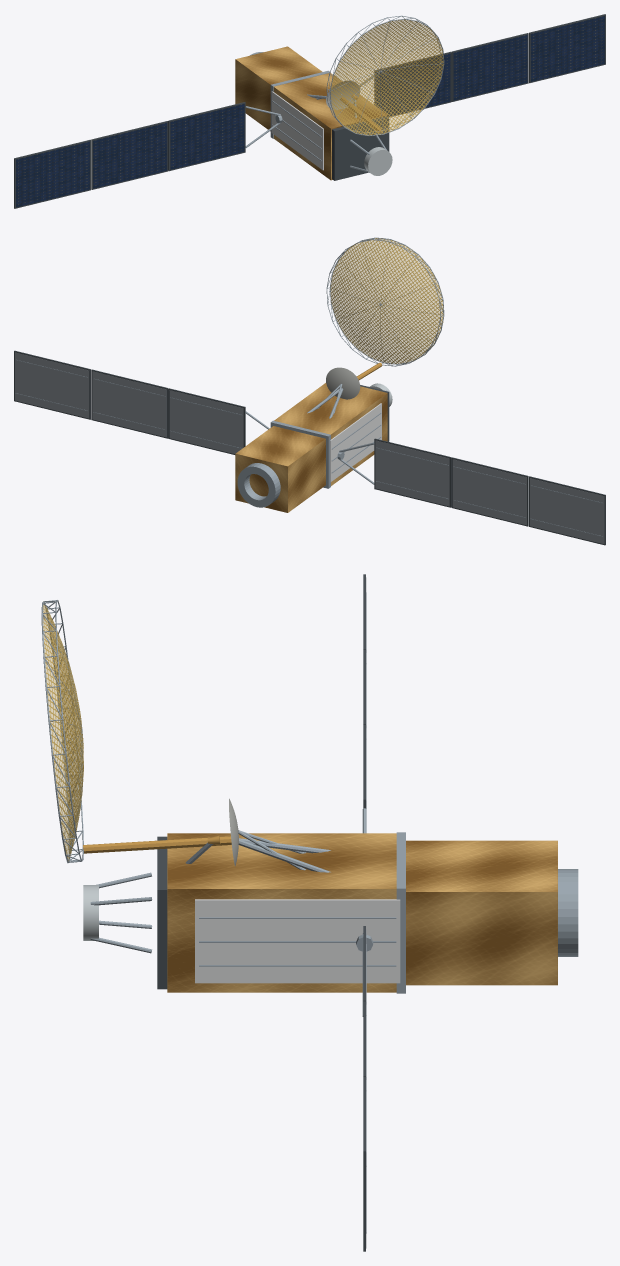
The model's file is ref-ekspress-1000-37951.glb.
3 views of the same model, one above another, from view 1: azimuth 30°, elevation 25°; view 2: azimuth 150°, elevation 25°; view 3: azimuth 270°, elevation 25° (orthographic). The views are drawn at different scales.
Parts seen in each view (by area): view 1: Solar cell panel (×6), Deployable mesh reflector, Service module, Payload module, Solar panel frame (×6), Earth-facing deck, Radiator face, Antenna tower platform, Communications reflector, Module interface; view 2: Rear array substrate (×6), Deployable mesh reflector, Service module, Payload module, Solar panel frame (×6), Radiator face, Launch adapter ring, Communications reflector, Module interface; view 3: Service module, Payload module, Radiator face, Deployable mesh reflector, Launch adapter ring, Earth-facing deck, Module interface, Reflector deployment boom.
Boxes of the visible parts, box(x1,y1,x2,y2) form: Solar cell panel (×6): box(16, 16, 604, 207); Deployable mesh reflector: box(330, 19, 443, 135); Service module: box(235, 46, 322, 131); Payload module: box(273, 73, 387, 180); Solar panel frame (×6): box(14, 14, 605, 208); Earth-facing deck: box(332, 116, 389, 180); Radiator face: box(271, 91, 323, 170); Antenna tower platform: box(364, 147, 392, 175); Communications reflector: box(326, 80, 359, 110); Module interface: box(270, 70, 330, 138); Rear array substrate (×6): box(15, 352, 604, 543); Deployable mesh reflector: box(330, 238, 443, 364); Service module: box(235, 426, 325, 512); Payload module: box(274, 383, 387, 485); Solar panel frame (×6): box(14, 350, 605, 545); Radiator face: box(330, 403, 381, 482); Launch adapter ring: box(237, 463, 280, 507); Communications reflector: box(326, 367, 360, 399); Module interface: box(270, 420, 330, 488); Service module: box(406, 840, 557, 985); Payload module: box(167, 833, 396, 992); Radiator face: box(195, 899, 400, 983); Deployable mesh reflector: box(42, 604, 83, 860); Launch adapter ring: box(558, 869, 578, 956); Earth-facing deck: box(157, 836, 167, 989); Module interface: box(396, 832, 405, 993); Reflector deployment boom: box(83, 836, 231, 853).
Size of the model in its own units: 20.77 by 5.94 by 8.17.
Materials: 10 (3 with a texture image).
